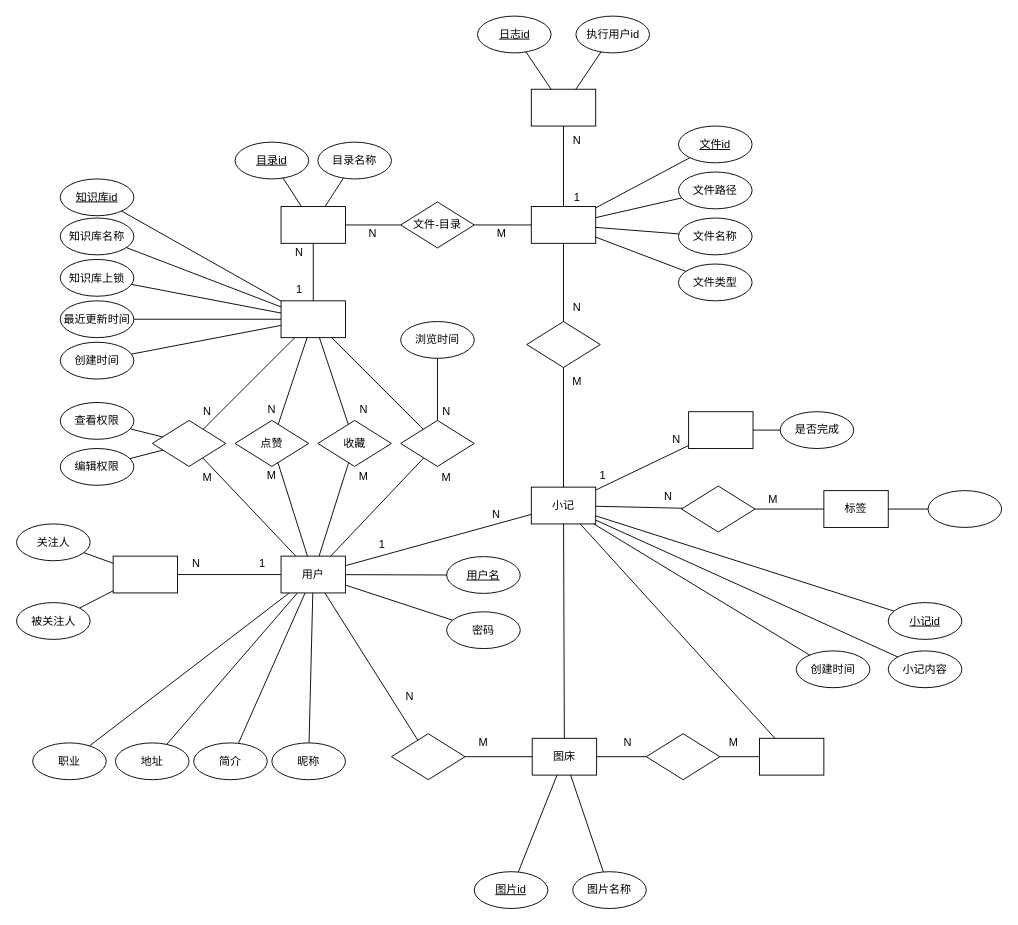
Image size: 1018x925. Some labels were removed from this diagram. Here are the shapes that lost their labels. From the top down, the centre of each, then its label:
At [563,107]: "文件更新日志".
At [312,224]: "目录".
At [563,224]: "文件床".
At [312,319]: "知识库".
At [563,344]: "附件".
At [188,443]: "知识库权限".
At [437,443]: "浏览历史".
At [720,429]: "代办".
At [718,508]: "小记-标签".
At [964,508]: "标签id".
At [145,574]: "关注".
At [428,756]: "头像".
At [682,756]: "图标".
At [791,756]: "链接".
